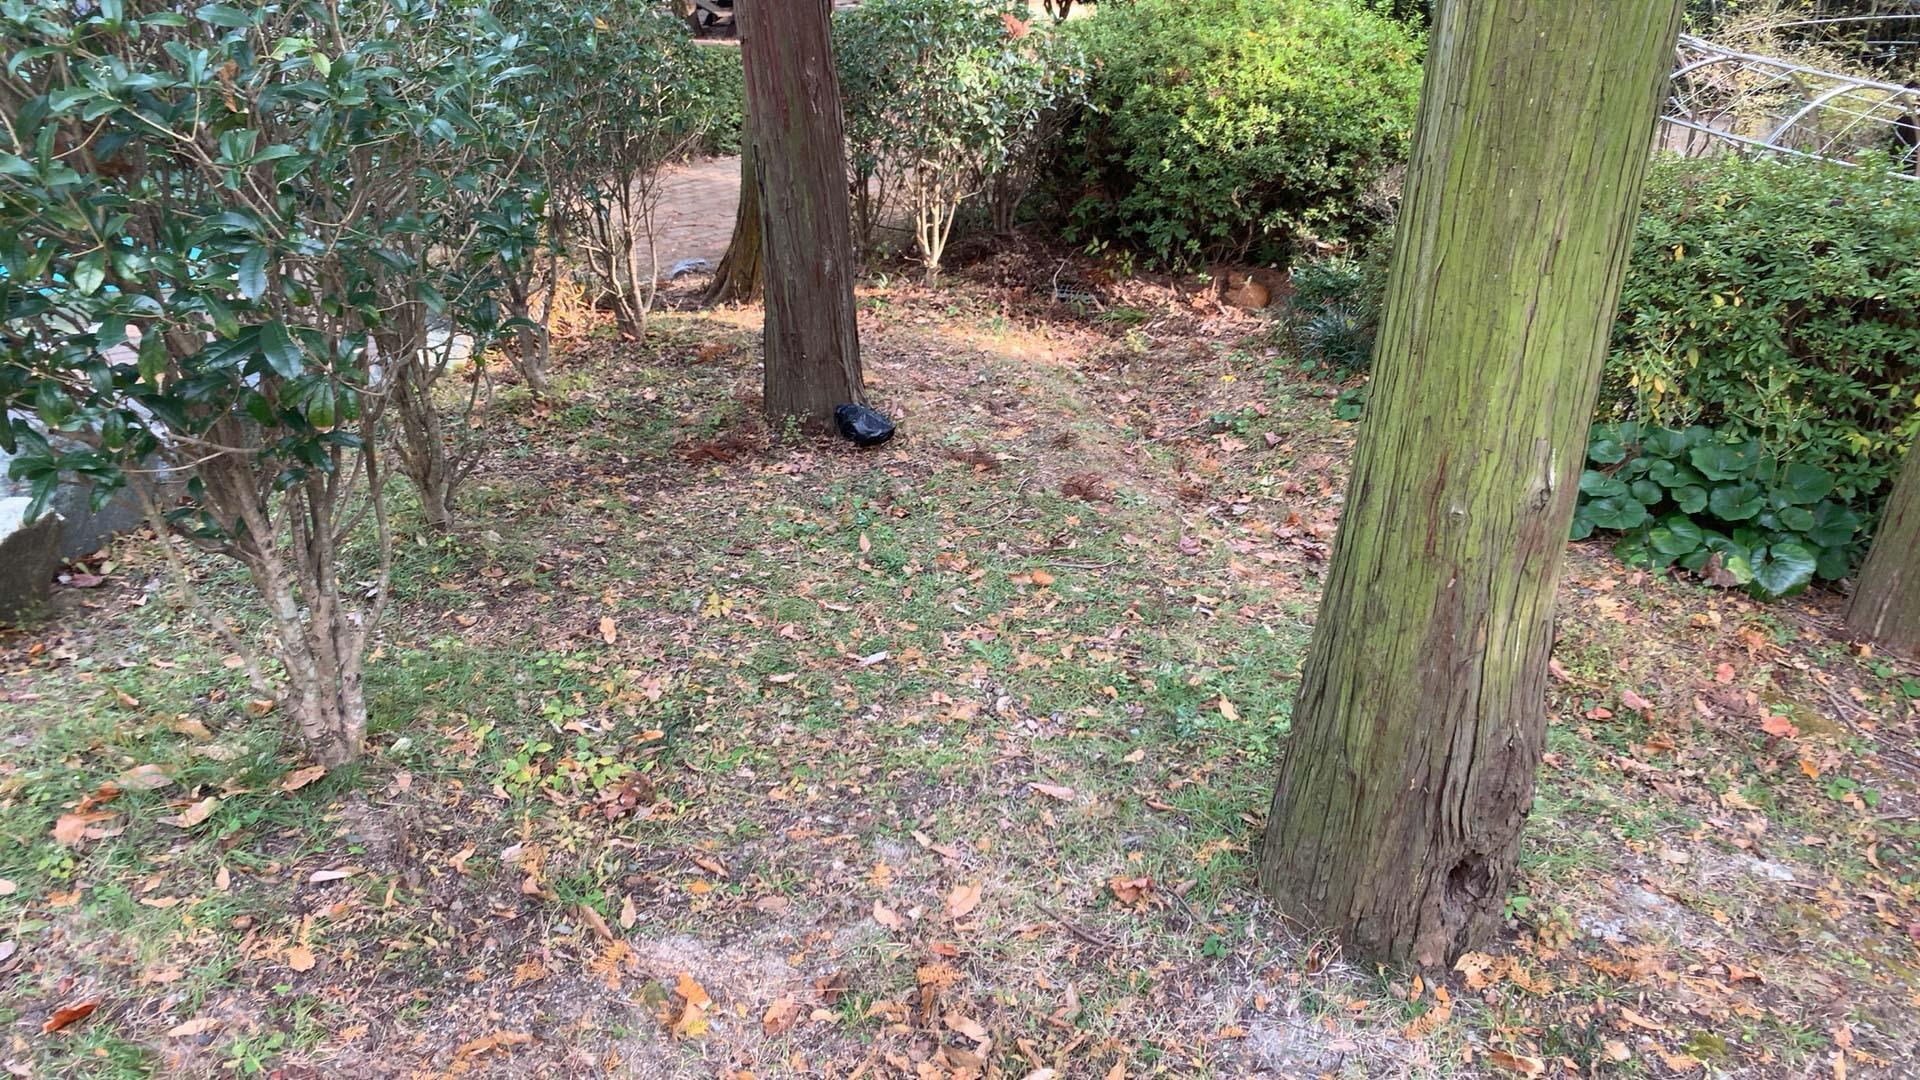black_bag: (829, 400, 898, 448)
